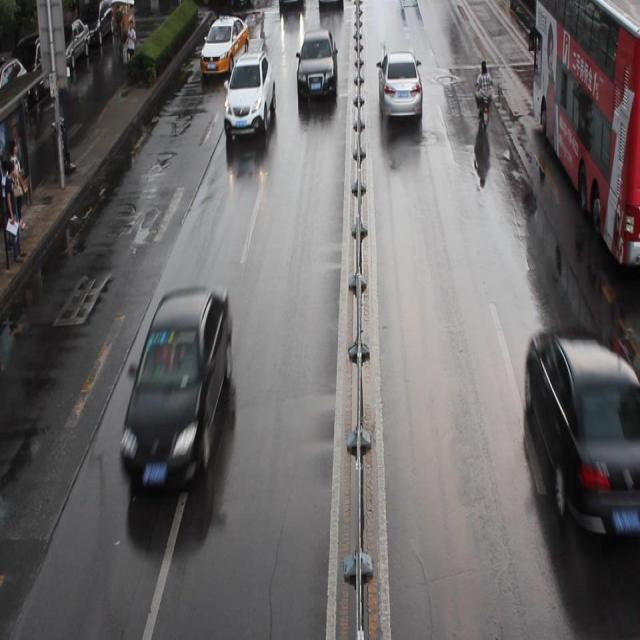car: (521, 330, 640, 560), (119, 282, 232, 490), (224, 51, 275, 137), (200, 12, 250, 75), (295, 27, 337, 102), (377, 51, 422, 120), (277, 1, 305, 12), (318, 1, 343, 11)
van: (530, 1, 640, 267)
